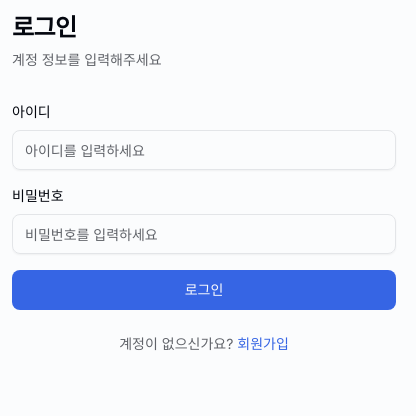
Test: LoginForm › 빈 필드 제출 시 에러 표시
Step 1. Click the button "로그인" → (204, 290), box [12,270,396,310]
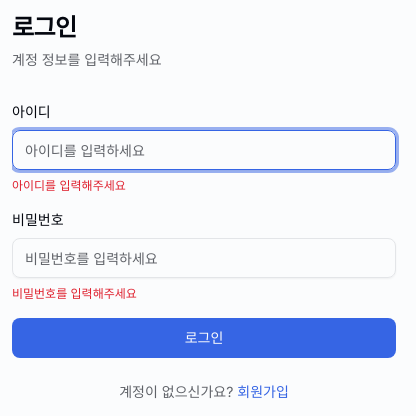
Expected: the text "아이디를 입력해주세요" is shown, [12,178,126,193]
Expected: the text "비밀번호를 입력해주세요" is shown, [12,286,137,301]
